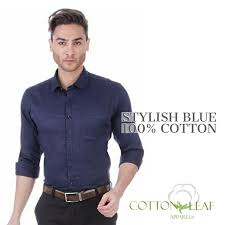F_belt: (40, 180, 116, 208)
F_shirt: (11, 70, 144, 186)
